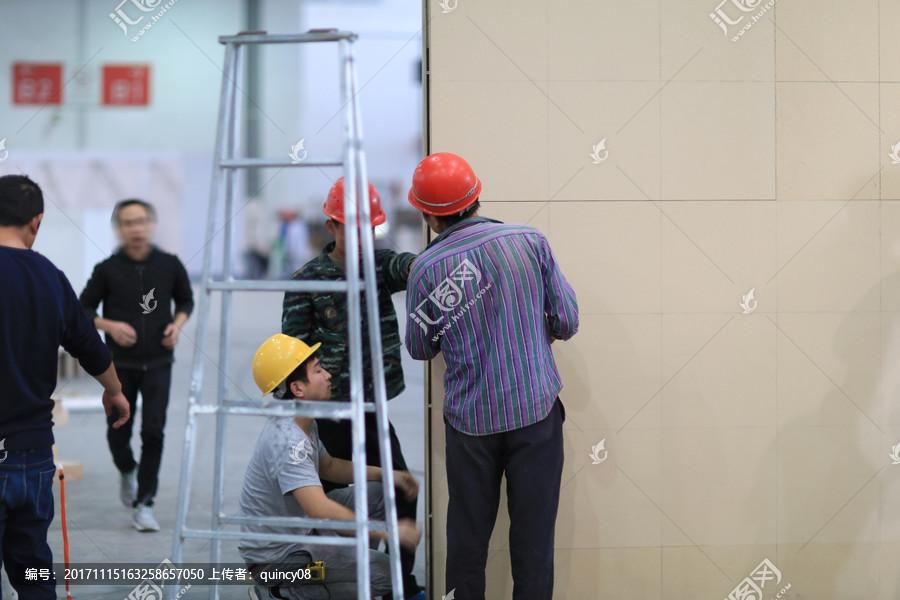helmet: (408, 150, 480, 220), (251, 336, 323, 391), (321, 176, 386, 226)
